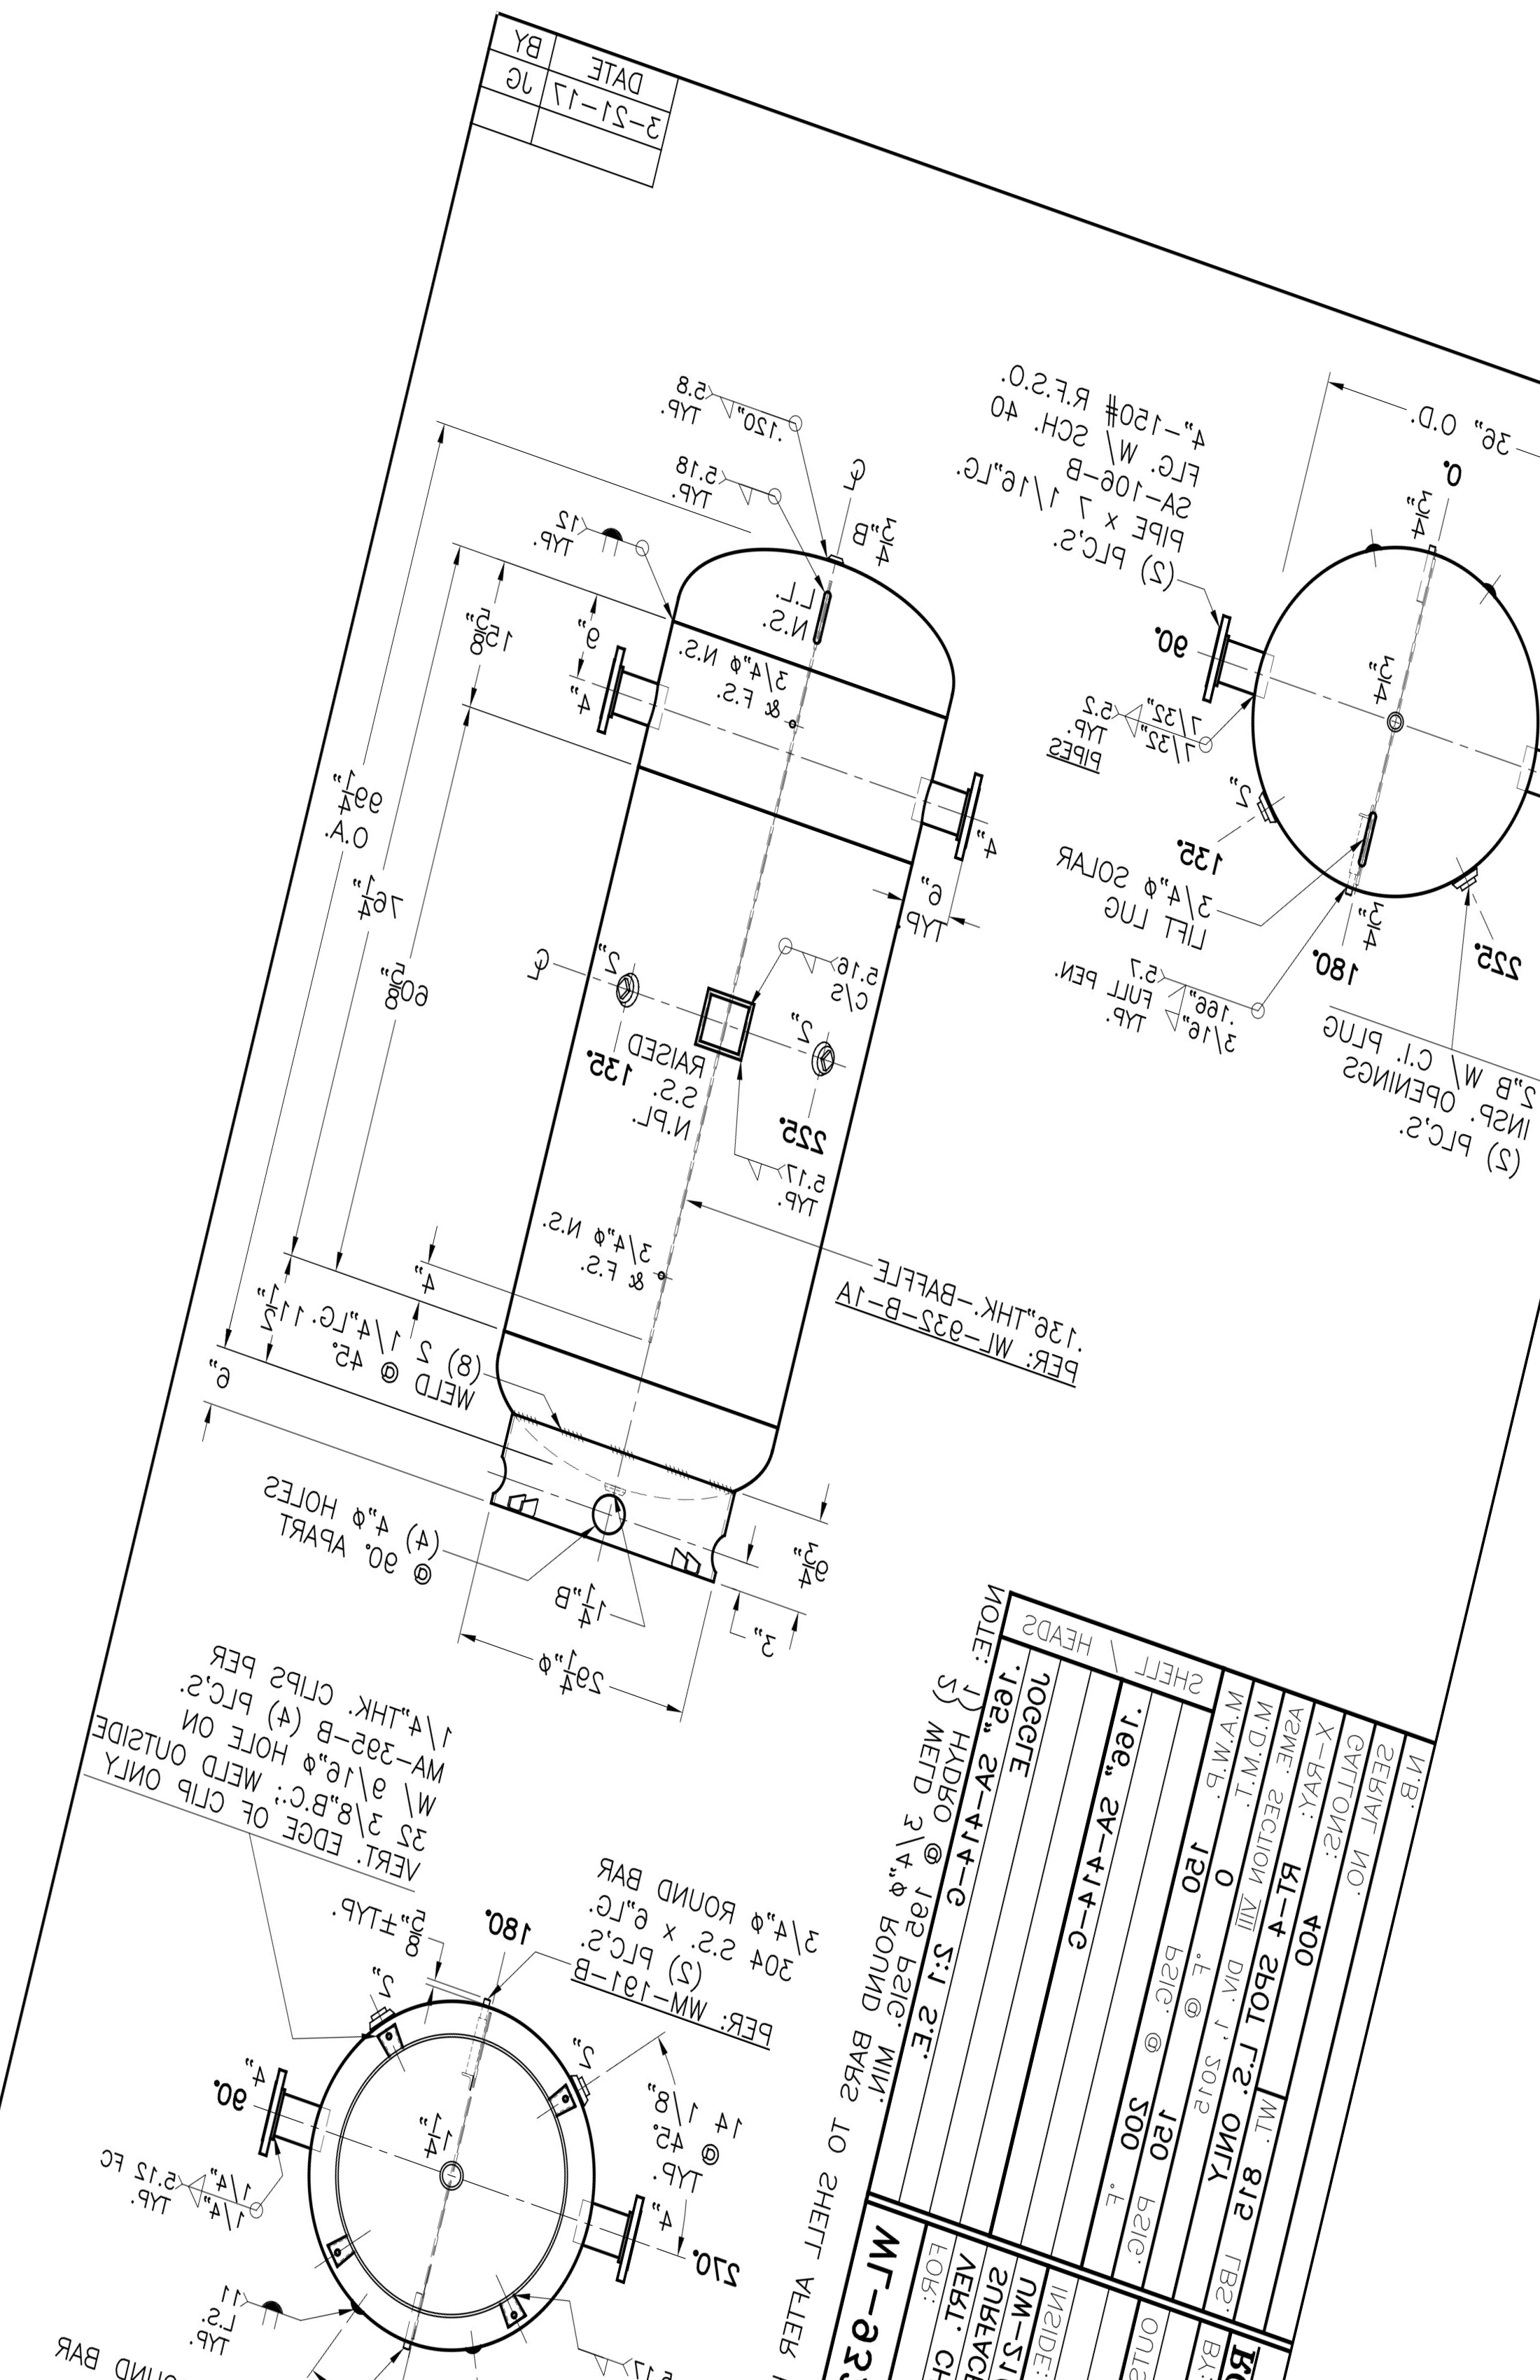Nozzle: (893, 749, 1035, 893), (222, 2059, 354, 2184), (1191, 609, 1311, 741), (558, 2181, 669, 2304), (581, 649, 694, 762)
